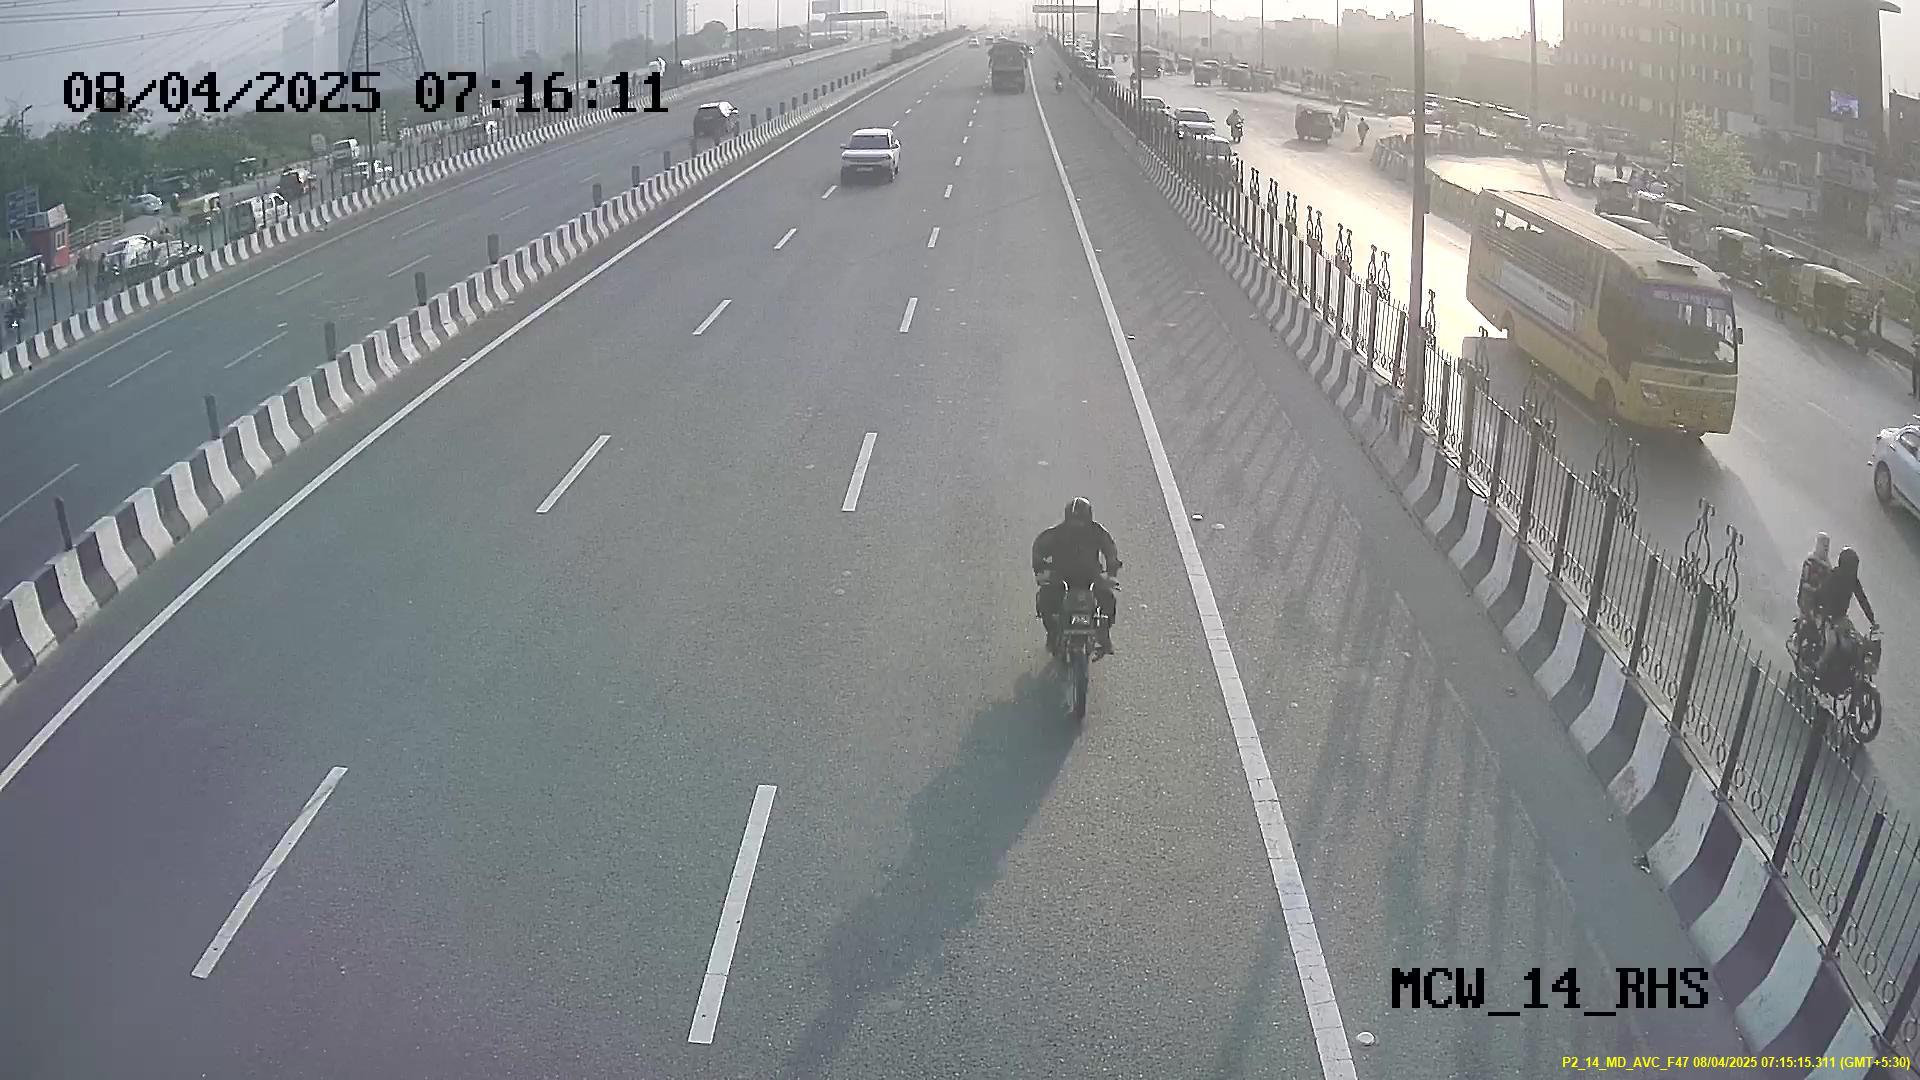bike: (1022, 487, 1126, 733)
